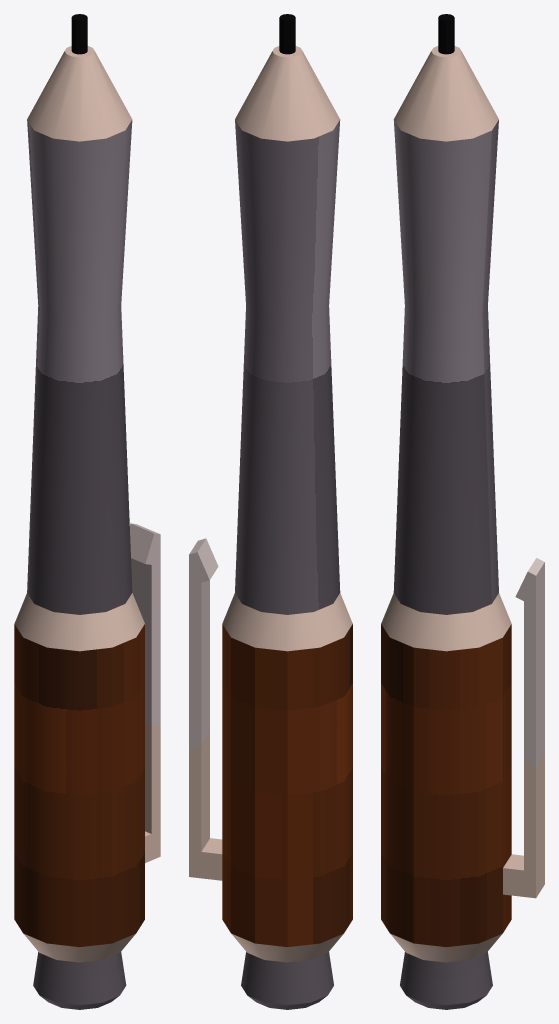
File: Pen.fbx
3 renders of one model, left to right at view 1: azimuth 30°, elevation 25°; view 2: azimuth 150°, elevation 25°; view 3: azimuth 330°, elevation 25°, orthographic.
Parts seen in each view (by area): view 1: Circle; view 2: Circle; view 3: Circle.
Part boxes in pixels (x1,y1,x2,y2): Circle: (14,14,160,1009); Circle: (189,14,352,1009); Circle: (381,14,544,1009).
Size of the model in its own units: 52.67 by 347 by 42.
